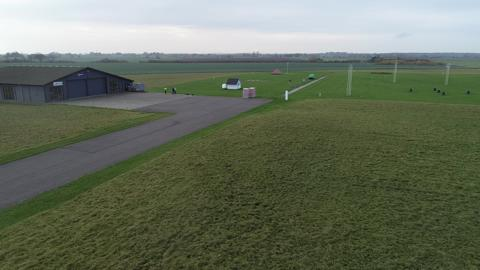RockwoolPallet: (248, 87, 257, 101)
